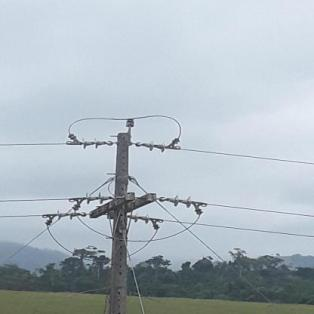Poste: (90, 130, 143, 314)
